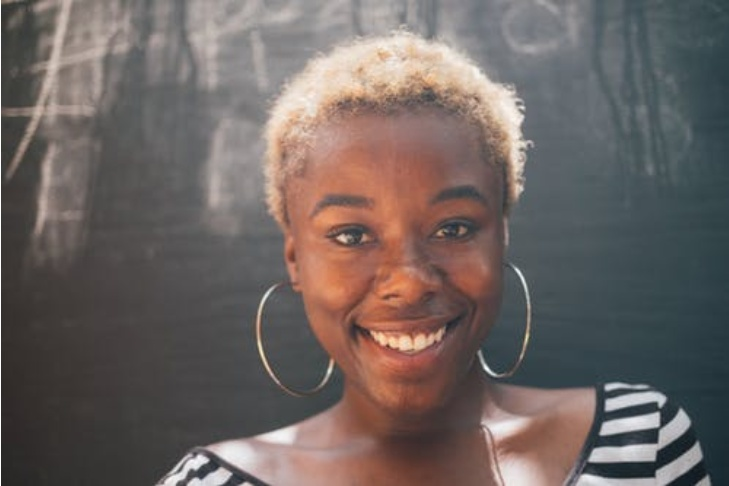face: (301, 111, 506, 417)
